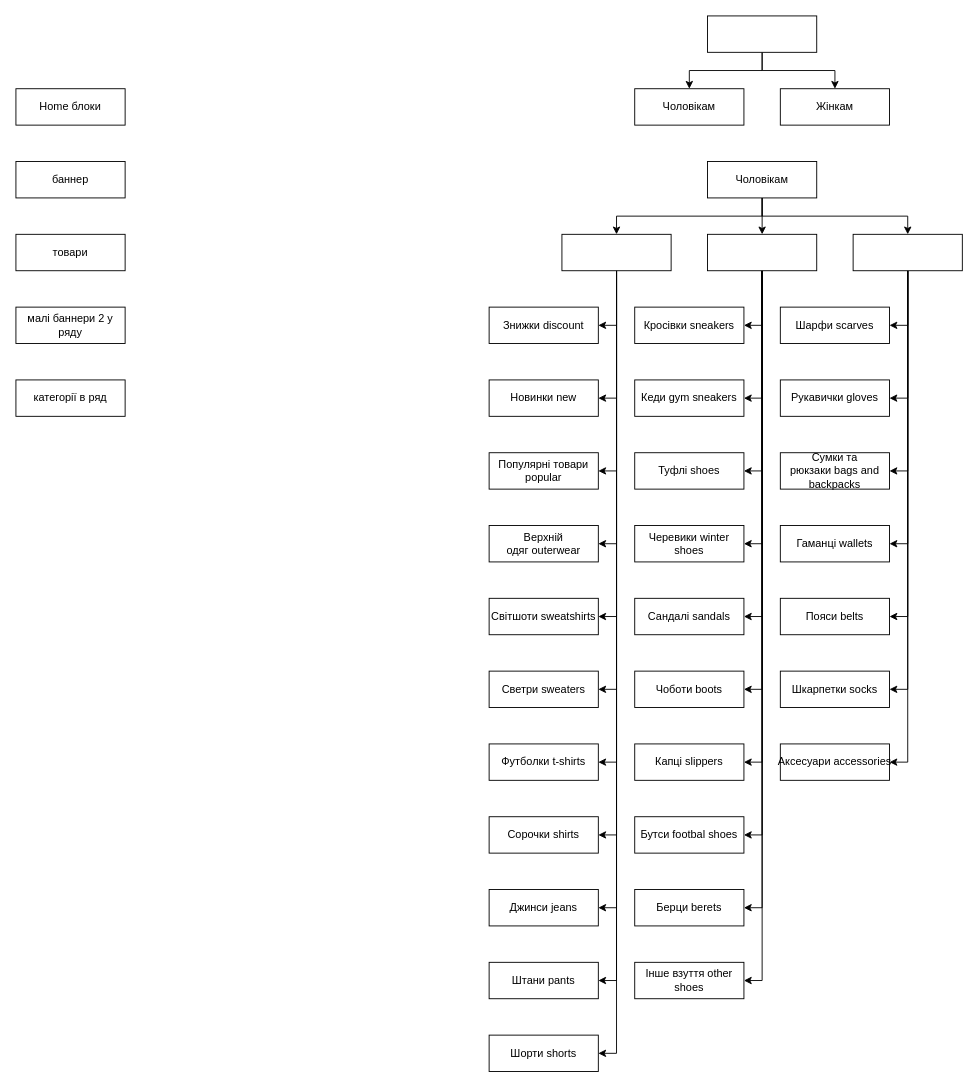
Some shapes in this 978 by 1087 pixel diagram are drawn without their labels. Here are the shapes that lost their labels. From the top down, the box of each, then its label:
(707, 15, 817, 52): Основні Категорії
(561, 233, 671, 271): Одяг
(707, 233, 817, 271): Взуття
(852, 233, 962, 271): Інші речі
